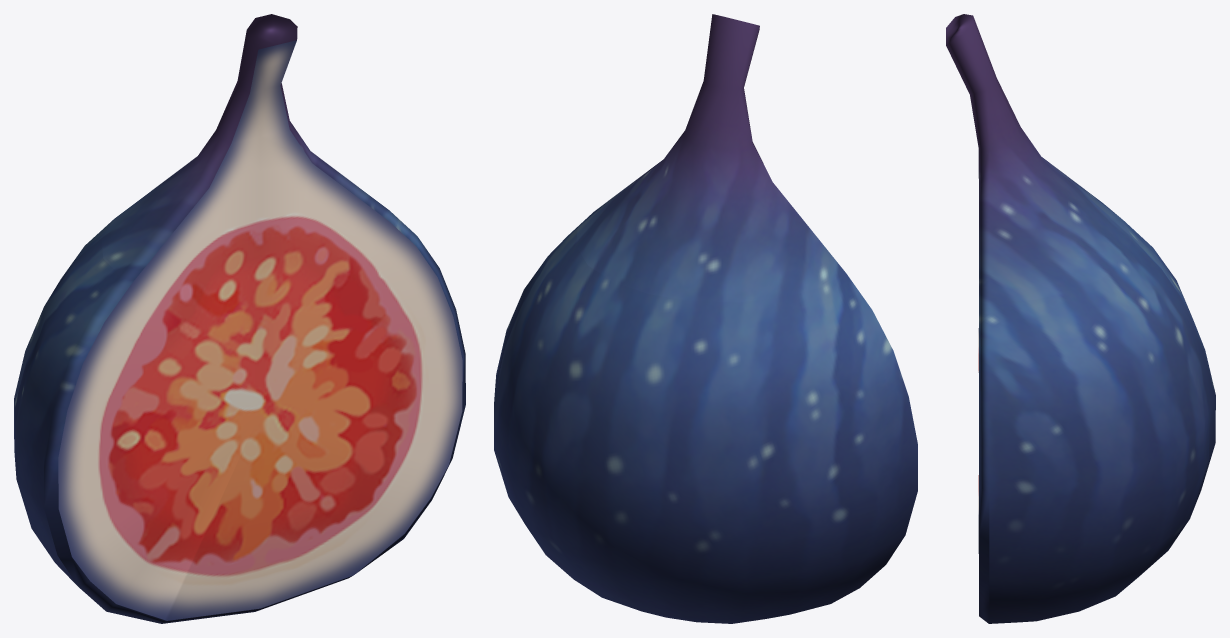
File: Fig_Blue_Half.fbx
3 views of the same model, side by side, from view 1: azimuth 30°, elevation 25°; view 2: azimuth 150°, elevation 25°; view 3: azimuth 270°, elevation 25° (orthographic). The views are drawn at different scales.
Visible parts, largest first — view 1: Fig_Blue_Half; view 2: Fig_Blue_Half; view 3: Fig_Blue_Half.
Boxes of the visible parts, x1,y1,x2,y2 form: Fig_Blue_Half: (14, 14, 465, 623); Fig_Blue_Half: (494, 14, 917, 623); Fig_Blue_Half: (946, 14, 1215, 623).
Bounding box in the file's own units: 23.41 × 31.93 × 13.68.
